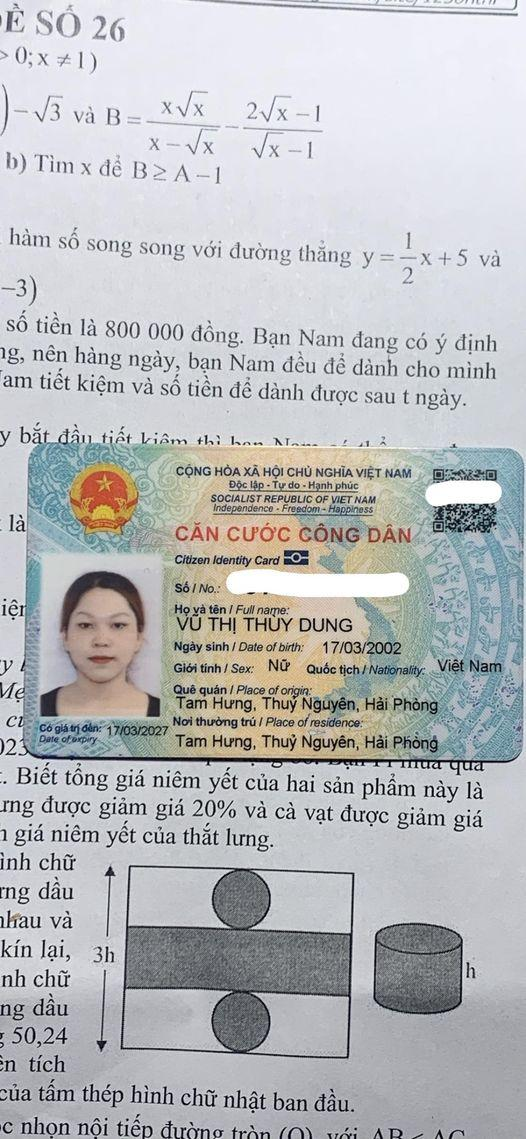bottom_left: (7, 734, 54, 762)
bottom_right: (500, 743, 526, 774)
image_person: (42, 555, 164, 720)
top_left: (23, 430, 52, 478)
top_right: (502, 436, 526, 476)
